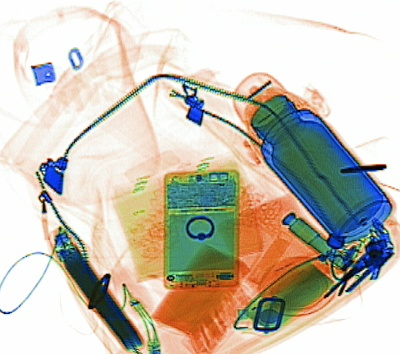powerbank: (45, 223, 143, 351)
